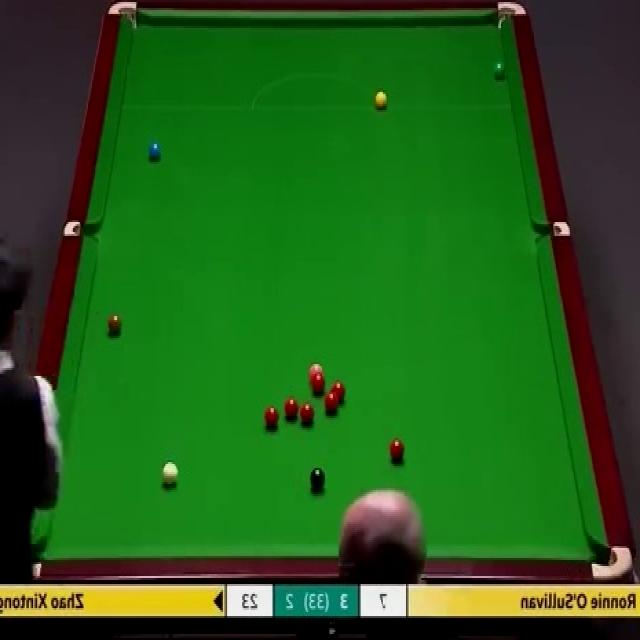pocket: (590, 544, 634, 579), (107, 2, 138, 32), (496, 1, 528, 30), (536, 221, 570, 240), (29, 534, 42, 583), (64, 222, 98, 240)
